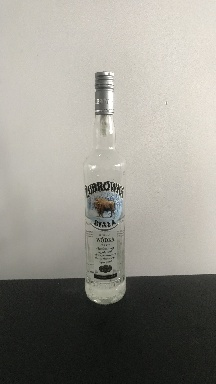butelka: (81, 67, 127, 308)
